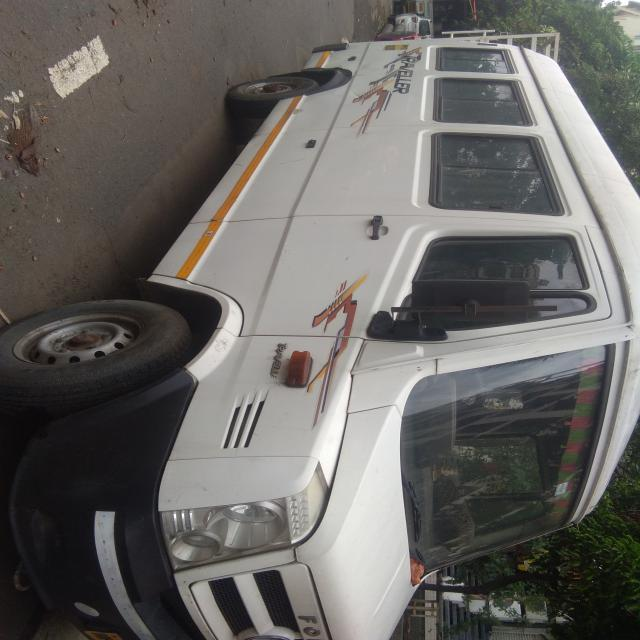Travller: (27, 16, 634, 626)
